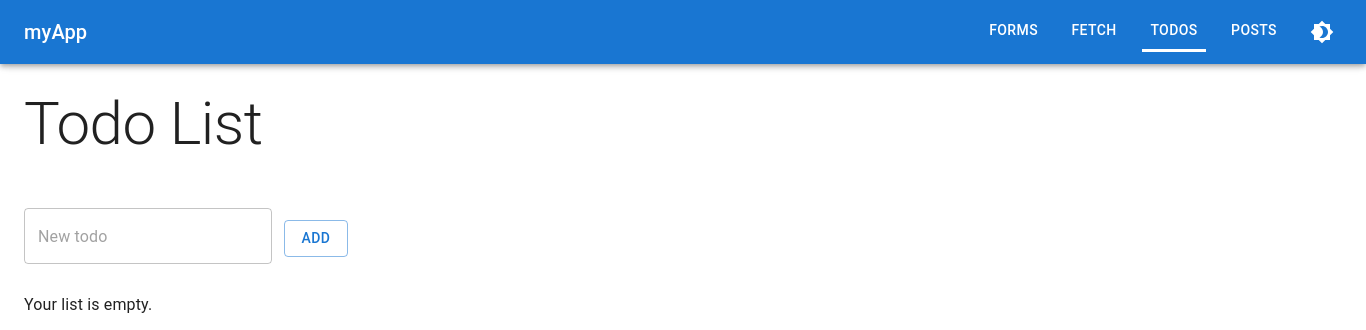
Test: router › navigate to home page from the top bar's home button
The image size is (1366, 330).
// Navigate to `Home` by clicking the home button on the navbar
Step 1. Click the link "myApp" → (56, 32), box [24,20,87,44]
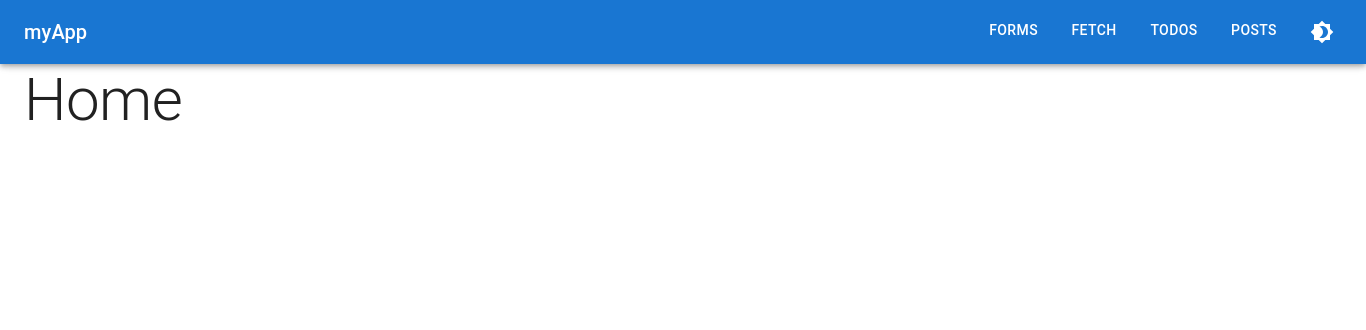
Expected: the heading reads "Home", [24,64,182,135]
